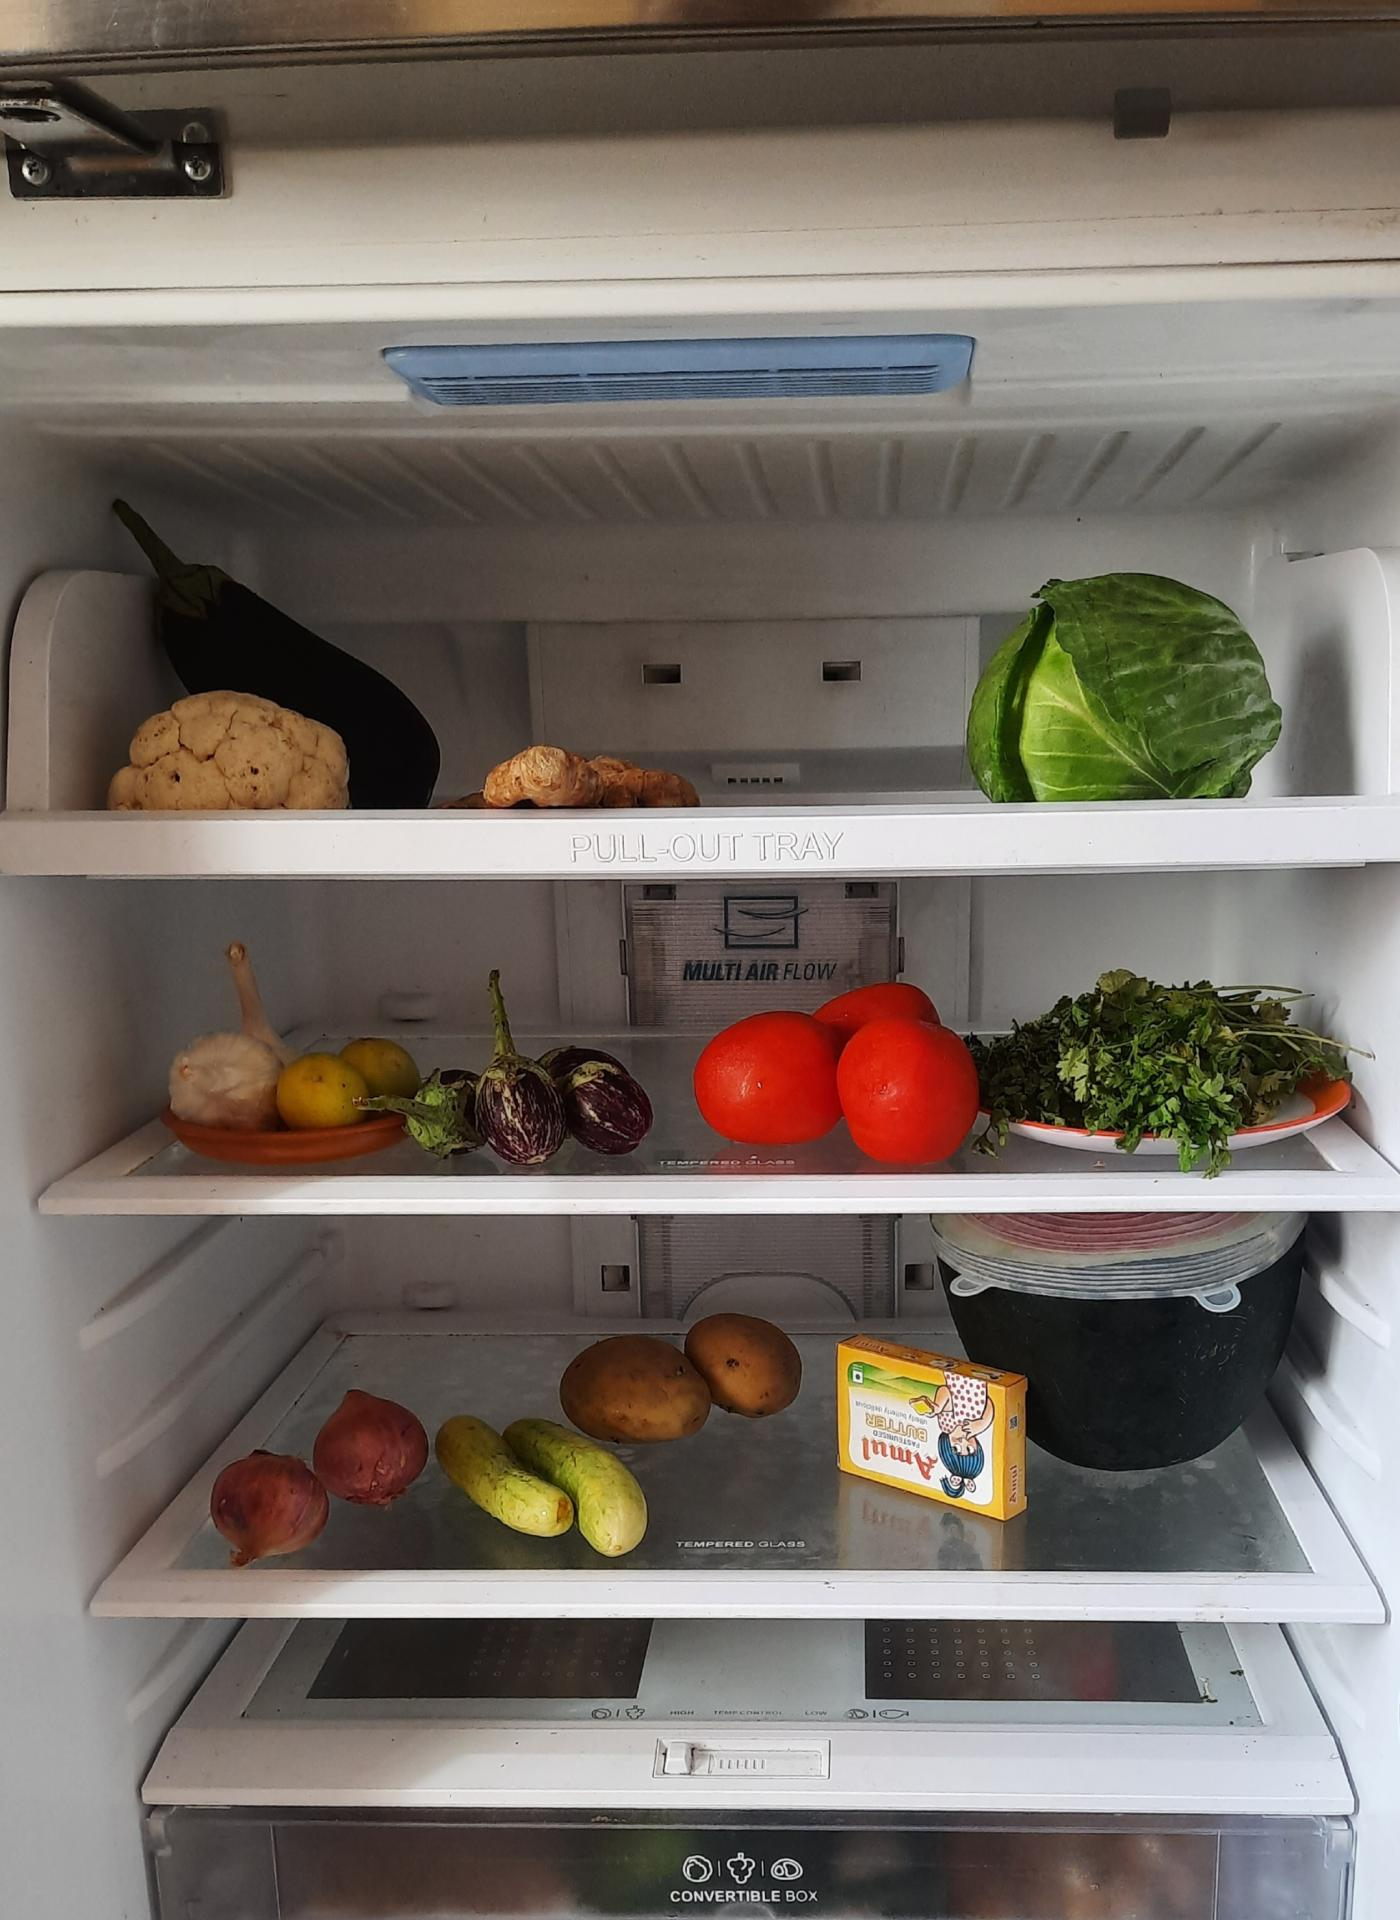brinjal: (124, 477, 447, 827), (414, 985, 660, 1161)
butter: (836, 1325, 1033, 1522)
cabbage: (972, 568, 1288, 803)
cauliflower: (101, 689, 367, 815)
coriander: (977, 972, 1349, 1149)
cucumber: (441, 1410, 658, 1561)
garlic: (163, 936, 291, 1131)
ginger: (477, 739, 708, 820)
lemon: (277, 1032, 431, 1130)
onion: (207, 1380, 426, 1550)
potato: (559, 1313, 808, 1444)
tomato: (695, 978, 975, 1166)
watermelon: (927, 1213, 1303, 1465)
